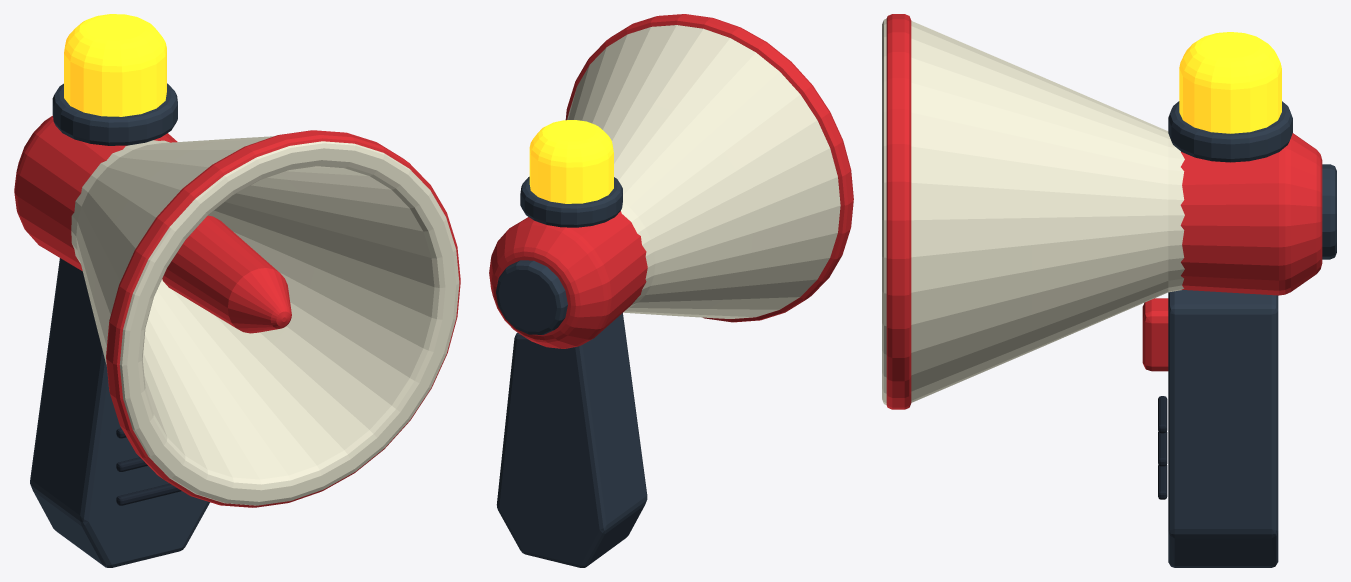
Rendered from Broadcaster.fbx.
The picture shows the model from 3 angles, left to right: view 1: azimuth 30°, elevation 25°; view 2: azimuth 150°, elevation 25°; view 3: azimuth 270°, elevation 25°; orthographic projection. The views are drawn at different scales.
Visible parts, largest first — view 1: Broadcaster; view 2: Broadcaster; view 3: Broadcaster.
Boxes of the visible parts, left/top/right/bottom form: Broadcaster: left=14, top=14, right=460, bottom=567; Broadcaster: left=489, top=14, right=853, bottom=567; Broadcaster: left=882, top=14, right=1336, bottom=567.
Bounding box in the file's own units: 1.08 × 1.56 × 1.24.
